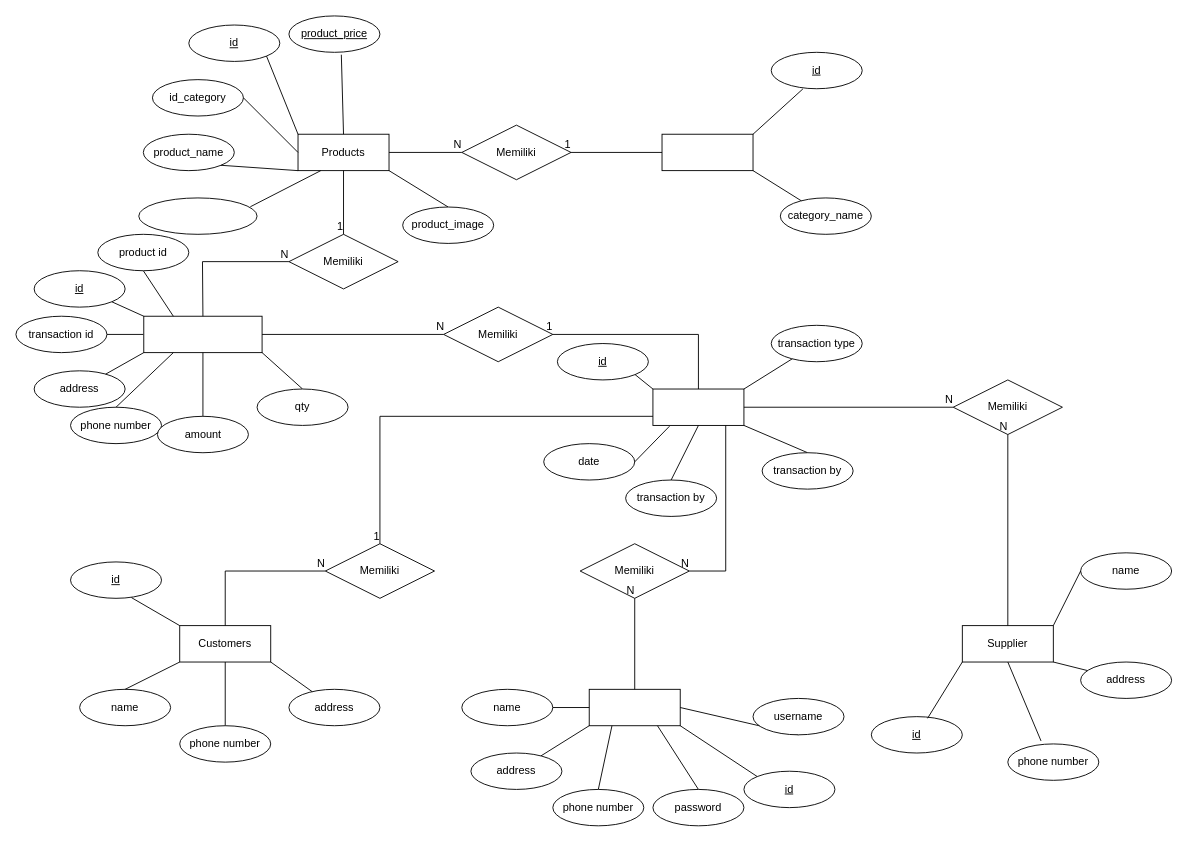
Some shapes in this 1188 by 842 pixel diagram are drawn without their labels. Each missing label, with the box of its shape:
categories: (661, 133, 753, 171)
product_description: (138, 197, 257, 234)
Transaction: (652, 388, 744, 425)
Transaction Detail: (143, 315, 262, 353)
Users: (588, 688, 680, 726)
